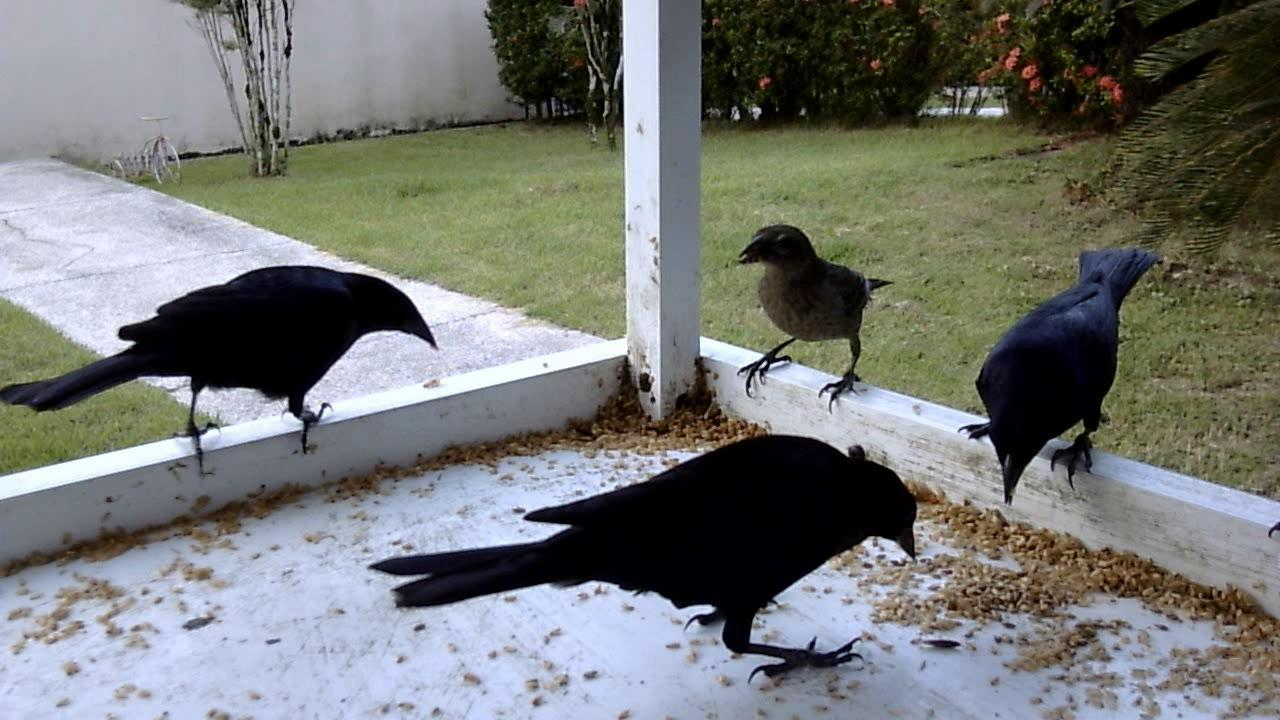chupim: (362, 422, 930, 688), (3, 247, 442, 494), (953, 244, 1168, 512), (729, 222, 907, 419)
